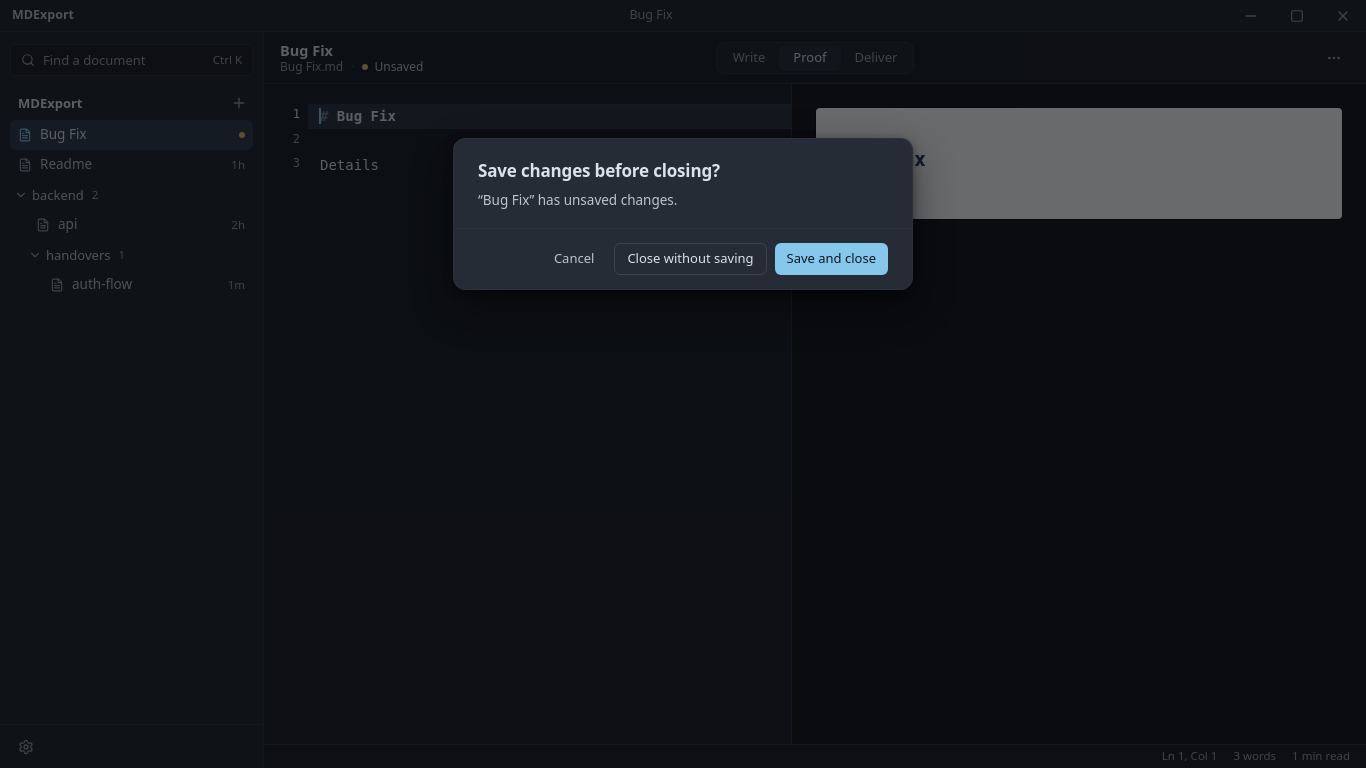
Closing the window › Cancel keeps the window and the edits
What coordinates should you click on to do the following:
click the button "Cancel"
I would click on:
 (574, 259)
Its box is [542, 243, 606, 275].
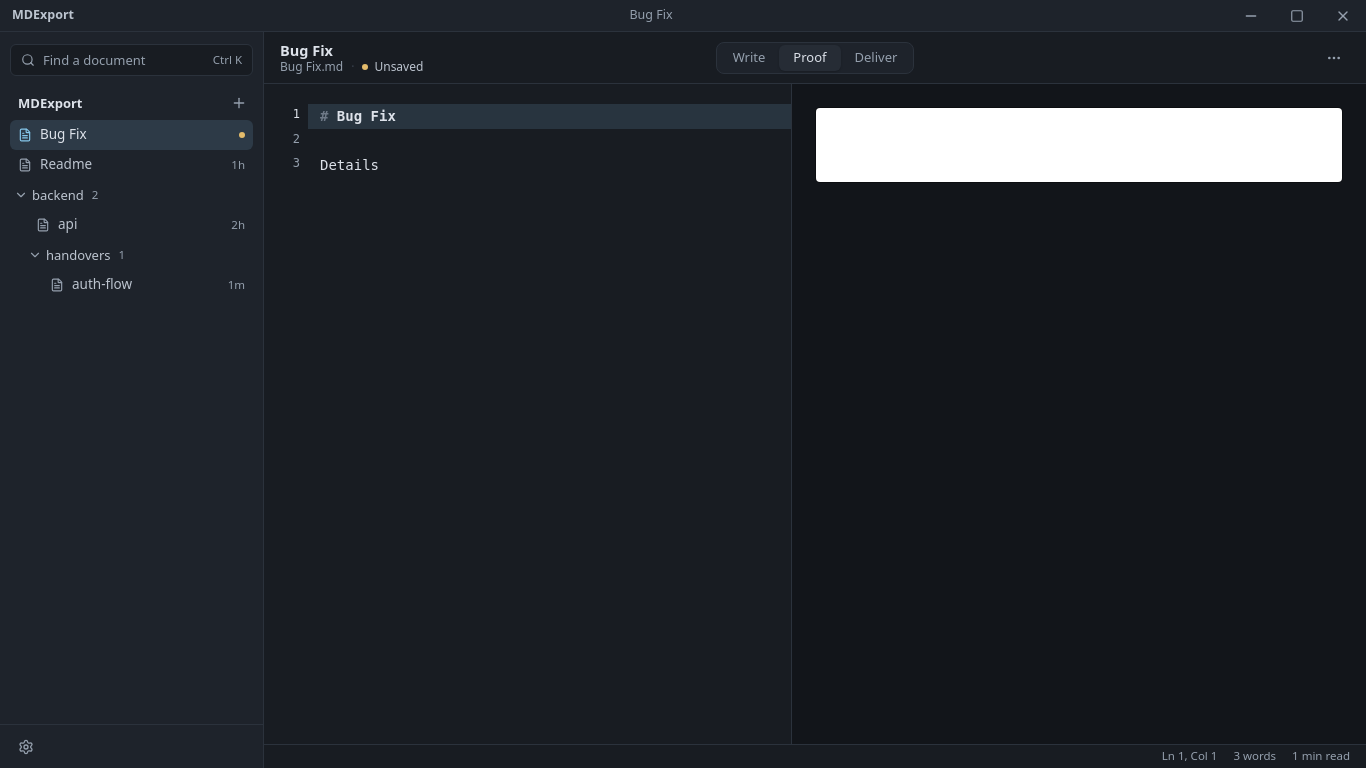
Expected: the dialog is gone
